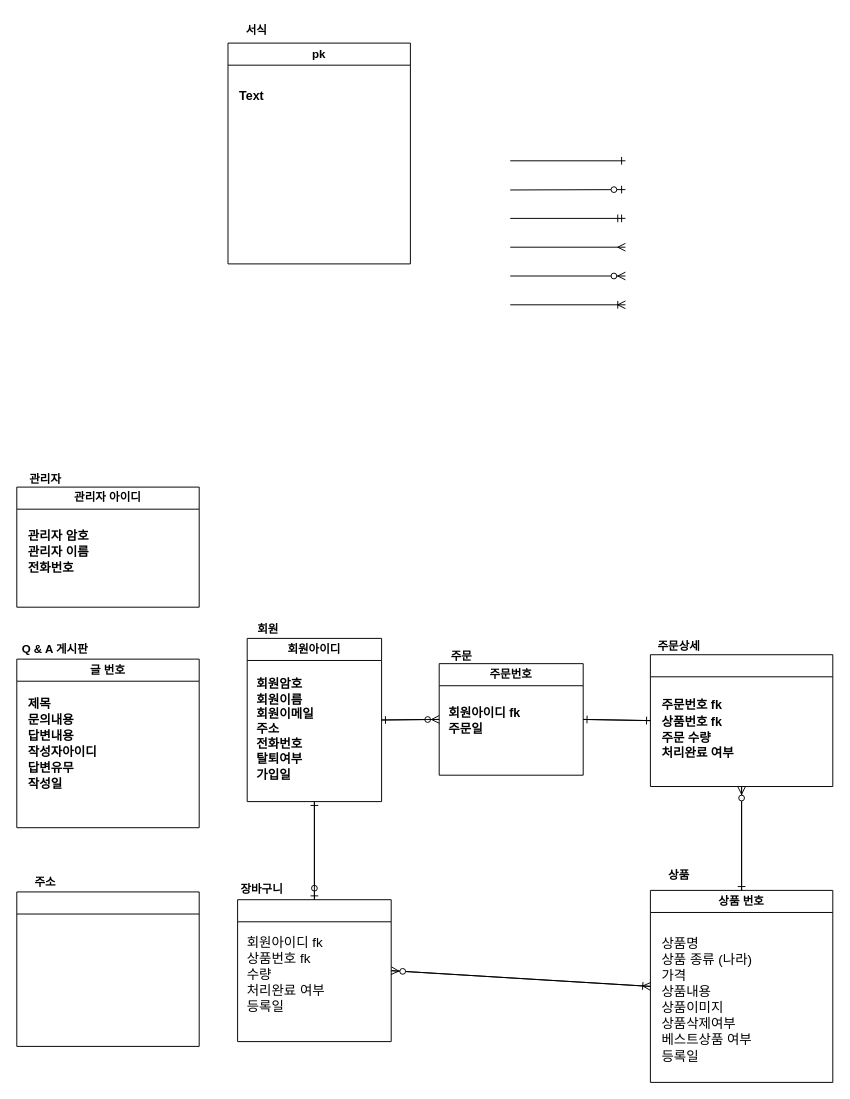
This 850x1099 diagram has some shape labels left out. Here are the shapes that lost their labels. From the top down, the box of each, then its label:
(649, 654, 833, 787): 주문상세번호
(16, 891, 199, 1046): 우편번호 시도 구군 동 상세주소
(237, 899, 391, 1042): 장바구니 번호
